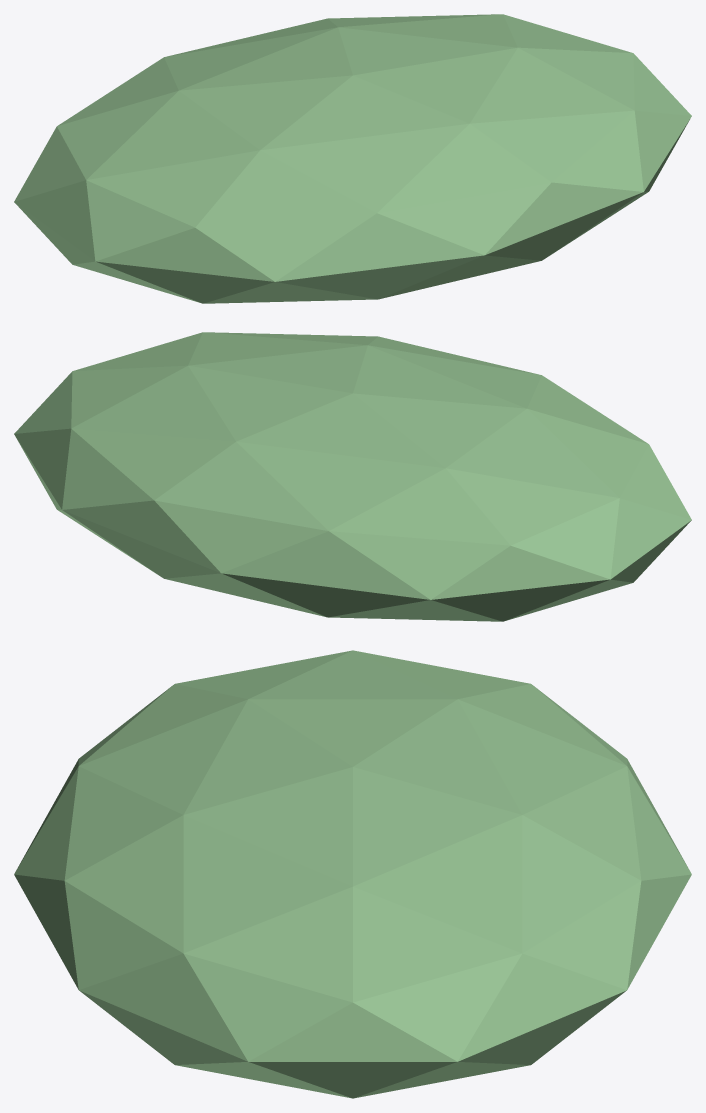
The model's file is landscape_mound.glb.
3 views of the same model, one above another, from view 1: azimuth 30°, elevation 25°; view 2: azimuth 150°, elevation 25°; view 3: azimuth 270°, elevation 25° (orthographic). The views are drawn at different scales.
Visible parts, largest first — view 1: landscape_mound_Mesh; view 2: landscape_mound_Mesh; view 3: landscape_mound_Mesh.
Boxes of the visible parts, box(x1,y1,x2,y2) form: landscape_mound_Mesh: box(14, 14, 691, 303); landscape_mound_Mesh: box(14, 332, 691, 621); landscape_mound_Mesh: box(14, 650, 691, 1098).
Bounding box in the file's own units: 41.85 × 11.2 × 32.
